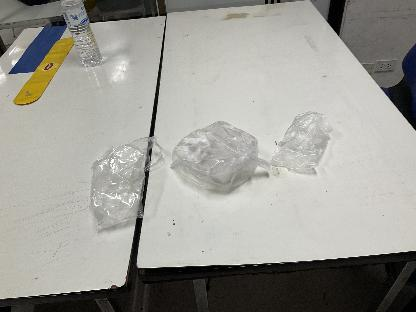Others: (166, 119, 270, 198), (92, 130, 162, 229), (268, 110, 334, 181)
